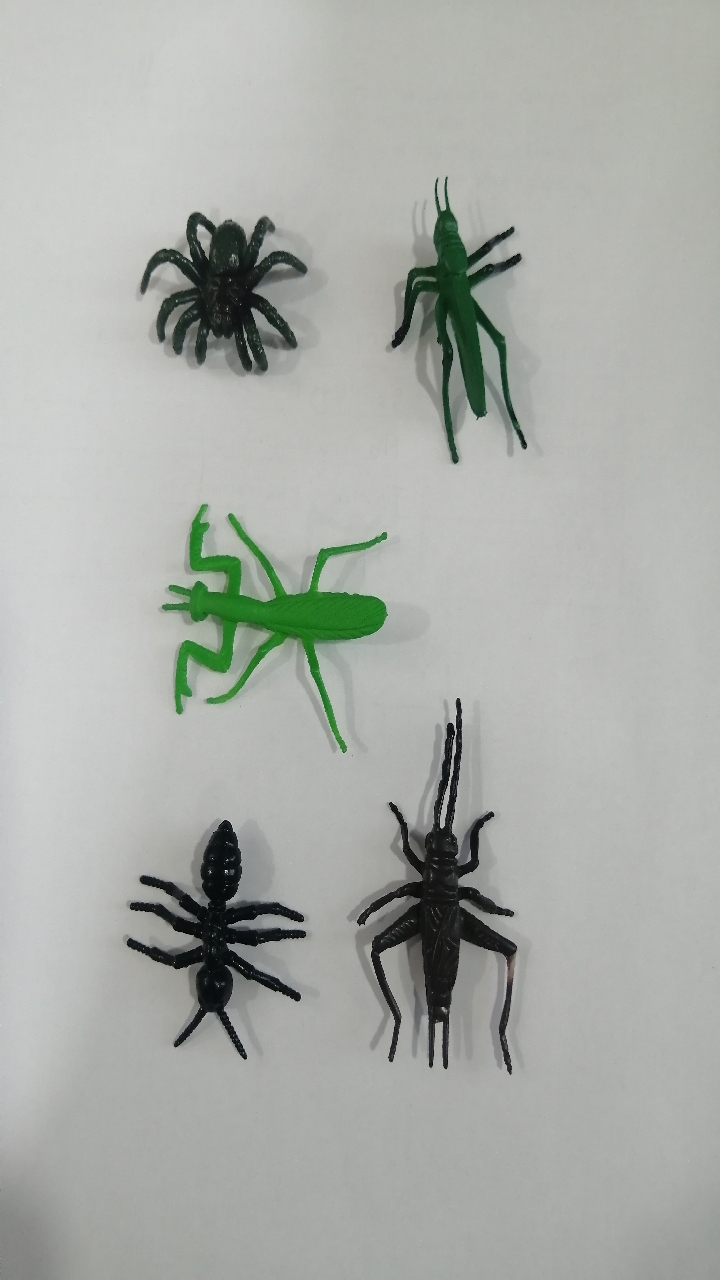intruso: (346, 688, 557, 1099), (137, 475, 389, 772), (358, 157, 566, 486), (89, 795, 326, 1082), (104, 189, 335, 403)
